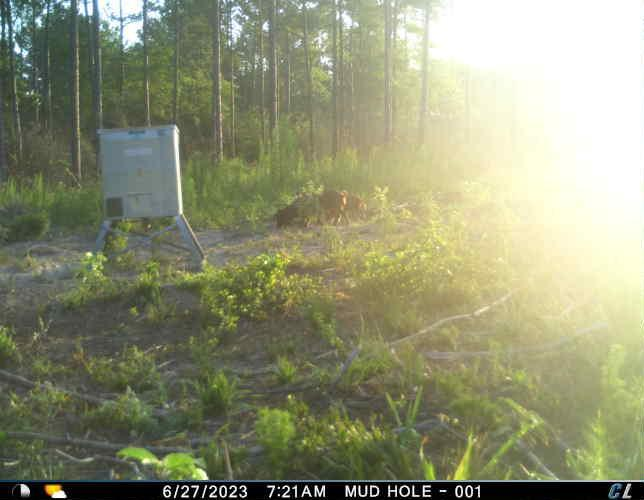Hog: (271, 185, 345, 234), (335, 185, 375, 219)
